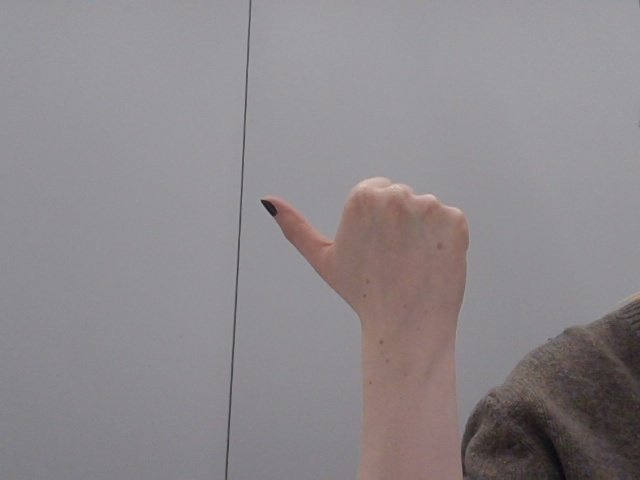right: (244, 162, 488, 358)
